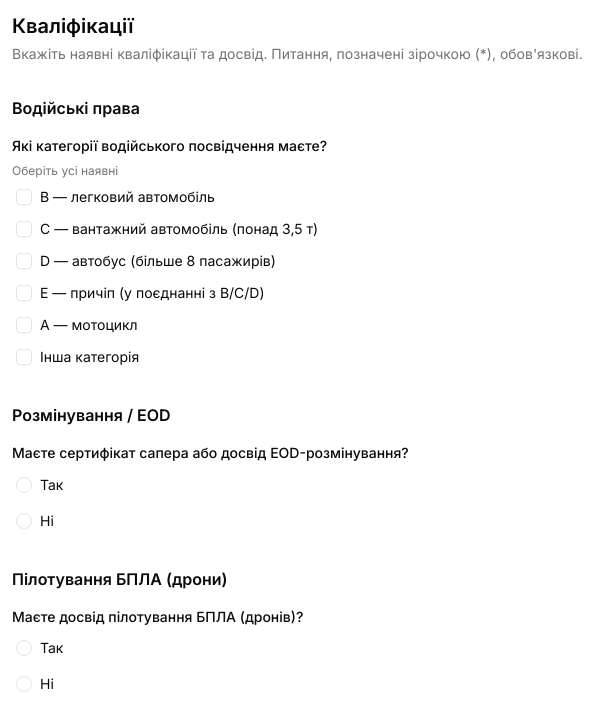
Scenario: QualificationsBlock — driver license multi-select › shows driving experience question after selecting a category
This screenshot has width=599, height=727.
Expected: the text "Загальний стаж водіння" is not shown
Click the text "B — легковий автомобіль" at x=127, y=197, box top-left (40, 187), bottom-right (215, 207)
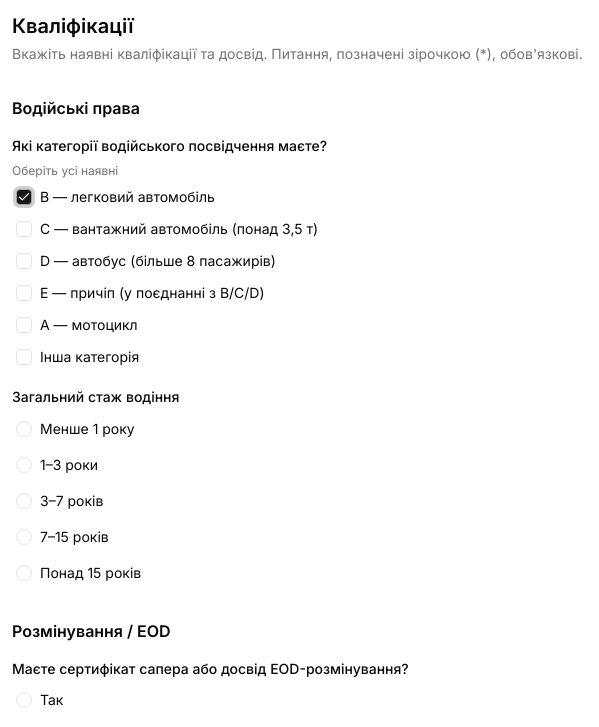
Now the text "Загальний стаж водіння" is shown, box top-left (12, 388), bottom-right (179, 405)
